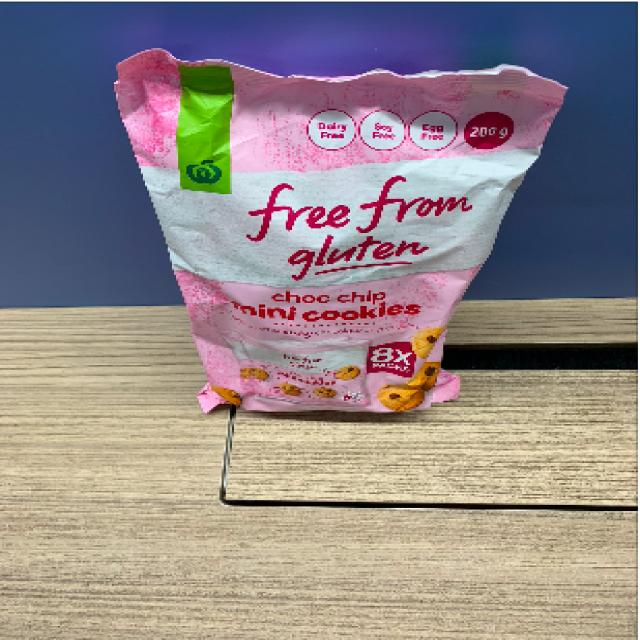object_name: (123, 58, 510, 417)
